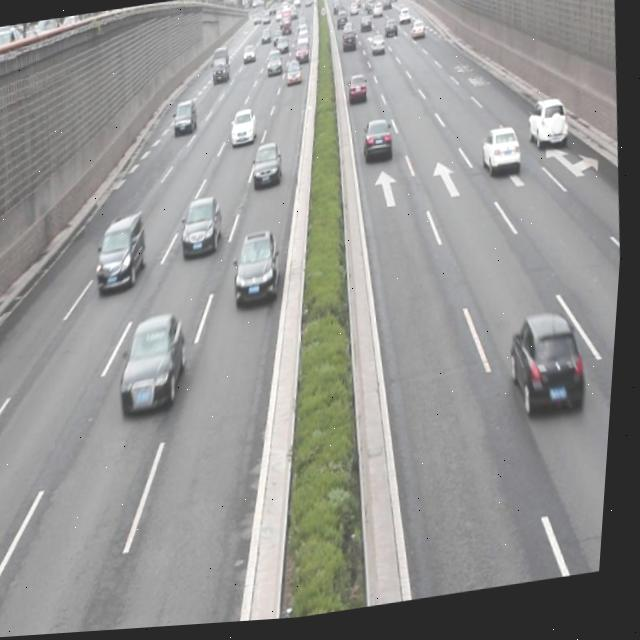car: (507, 312, 594, 430), (116, 311, 197, 418), (94, 211, 153, 293), (233, 229, 287, 310), (179, 196, 228, 260), (480, 126, 526, 185), (526, 100, 572, 159), (362, 119, 396, 170), (252, 143, 286, 191), (230, 108, 260, 151), (172, 99, 202, 138), (347, 75, 371, 111)
